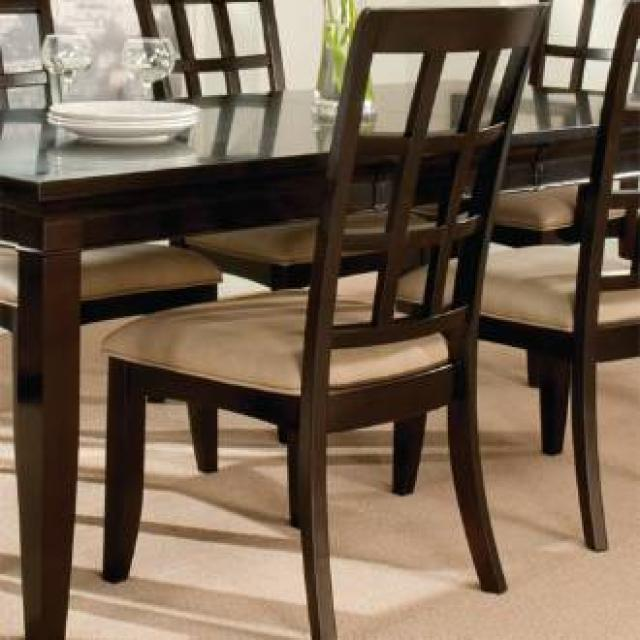chair: (99, 5, 550, 640)
